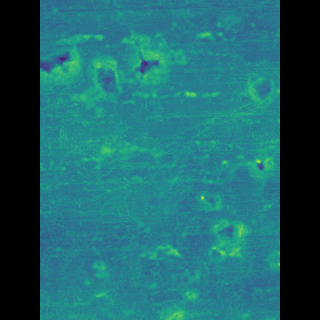Loch: (68, 19, 195, 114), (191, 217, 225, 265), (225, 74, 245, 104), (183, 189, 207, 213), (228, 150, 245, 179), (237, 248, 250, 270)
